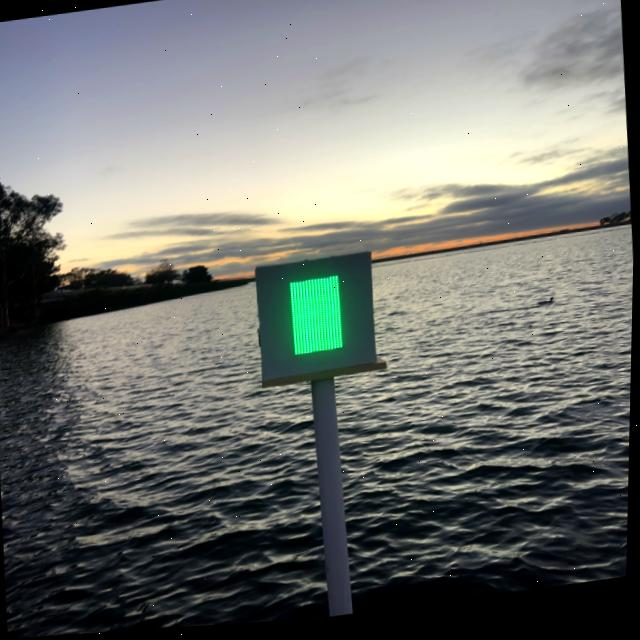led: (272, 265, 367, 378)
